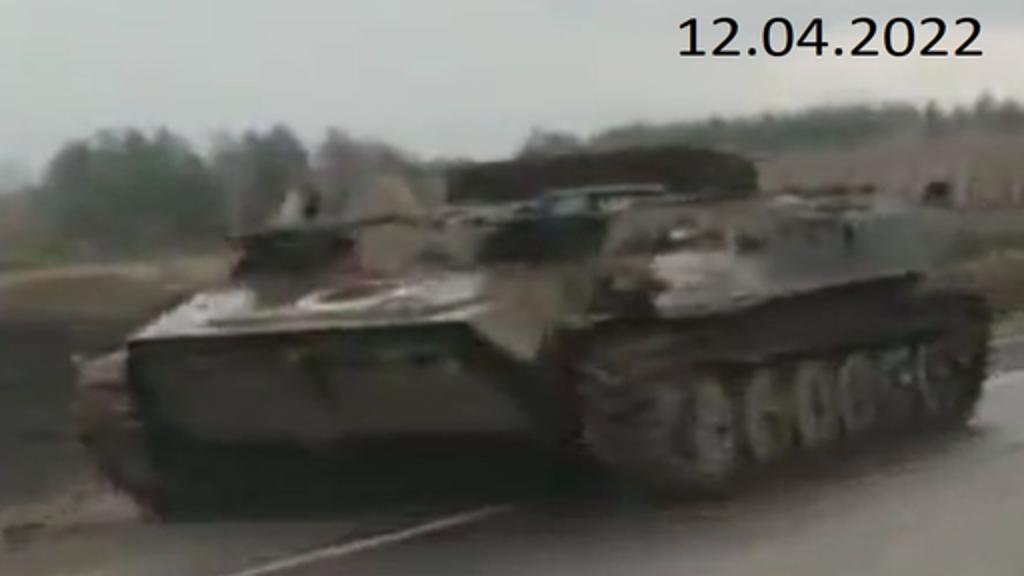APC-IFV: (46, 144, 994, 526)
